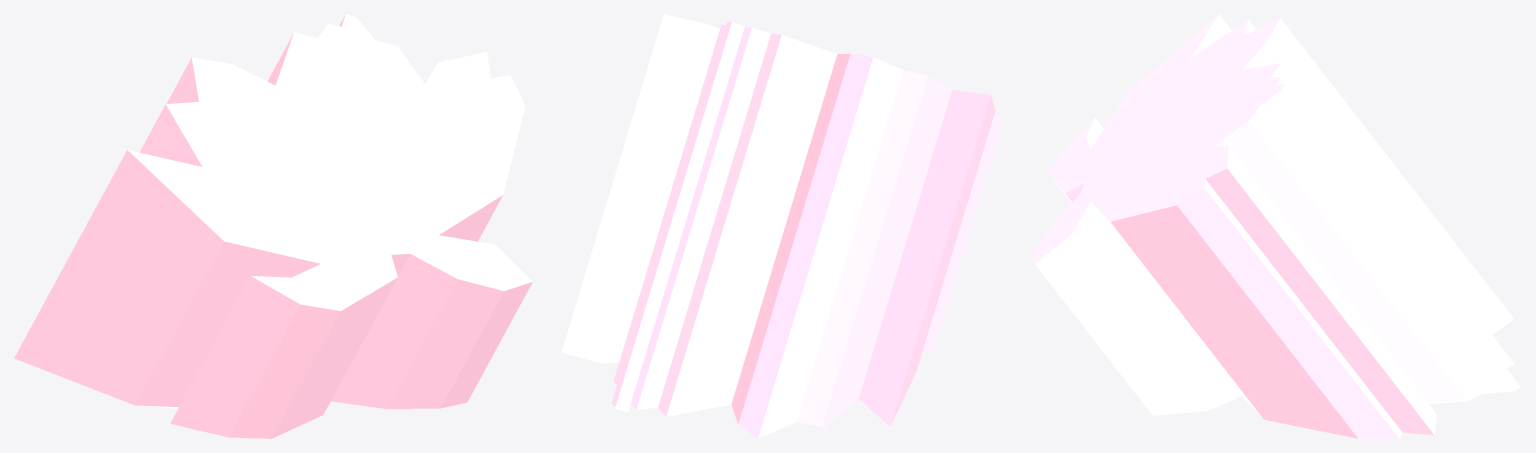
File: Lotus7.glb
3 renders of one model, left to right at view 1: azimuth 30°, elevation 25°; view 2: azimuth 150°, elevation 25°; view 3: azimuth 270°, elevation 25°, orthographic. The views are drawn at different scales.
Parts seen in each view (by area): view 1: Plane; view 2: Plane; view 3: Plane.
Part boxes in pixels (x1=…): Plane: x1=14, y1=14, x2=532, y2=438; Plane: x1=561, y1=14, x2=1004, y2=438; Plane: x1=1033, y1=14, x2=1521, y2=438.
Size of the model in its own units: 4.46 by 4.03 by 5.6.
